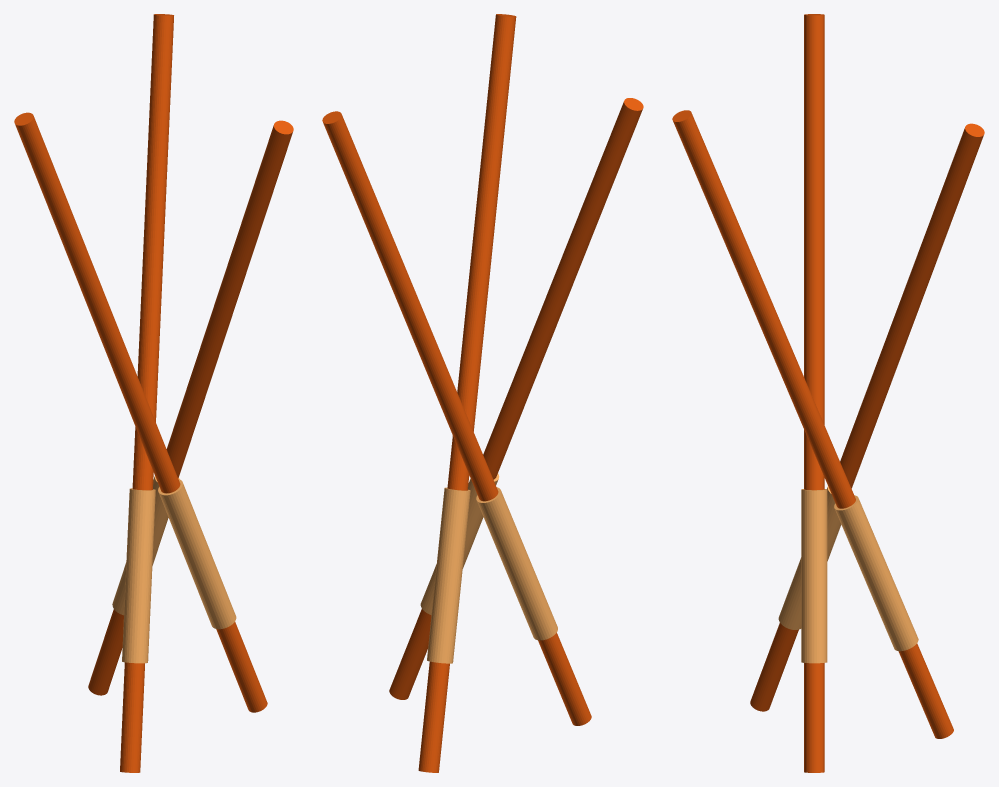
File: wall_7_turtle.fbx
The picture shows the model from 3 angles, left to right: view 1: azimuth 30°, elevation 25°; view 2: azimuth 150°, elevation 25°; view 3: azimuth 270°, elevation 25°; orthographic projection.
Visible parts, largest first — view 1: 실린더.005, 실린더, 실린더.002, 실린더.006, 실린더.001, 실린더.004; view 2: 실린더.002, 실린더.005, 실린더, 실린더.004, 실린더.006, 실린더.001; view 3: 실린더, 실린더.002, 실린더.005, 실린더.001, 실린더.004, 실린더.006.
Boxes of the visible parts, x1,y1,x2,y2 form: 실린더.005: (120,14,173,772); 실린더: (14,112,267,712); 실린더.002: (88,120,293,695); 실린더.006: (122,488,155,663); 실린더.001: (158,479,236,629); 실린더.004: (112,476,179,615); 실린더.002: (418,14,516,772); 실린더.005: (322,111,591,725); 실린더: (389,98,643,699); 실린더.004: (427,487,470,663); 실린더.006: (476,487,557,640); 실린더.001: (420,473,499,614); 실린더: (804,14,824,772); 실린더.002: (672,110,953,738); 실린더.005: (750,123,984,711); 실린더.001: (801,489,827,663); 실린더.004: (834,495,918,651); 실린더.006: (778,486,841,629).
Bounding box in the file's own units: 559 × 1405 × 604.
